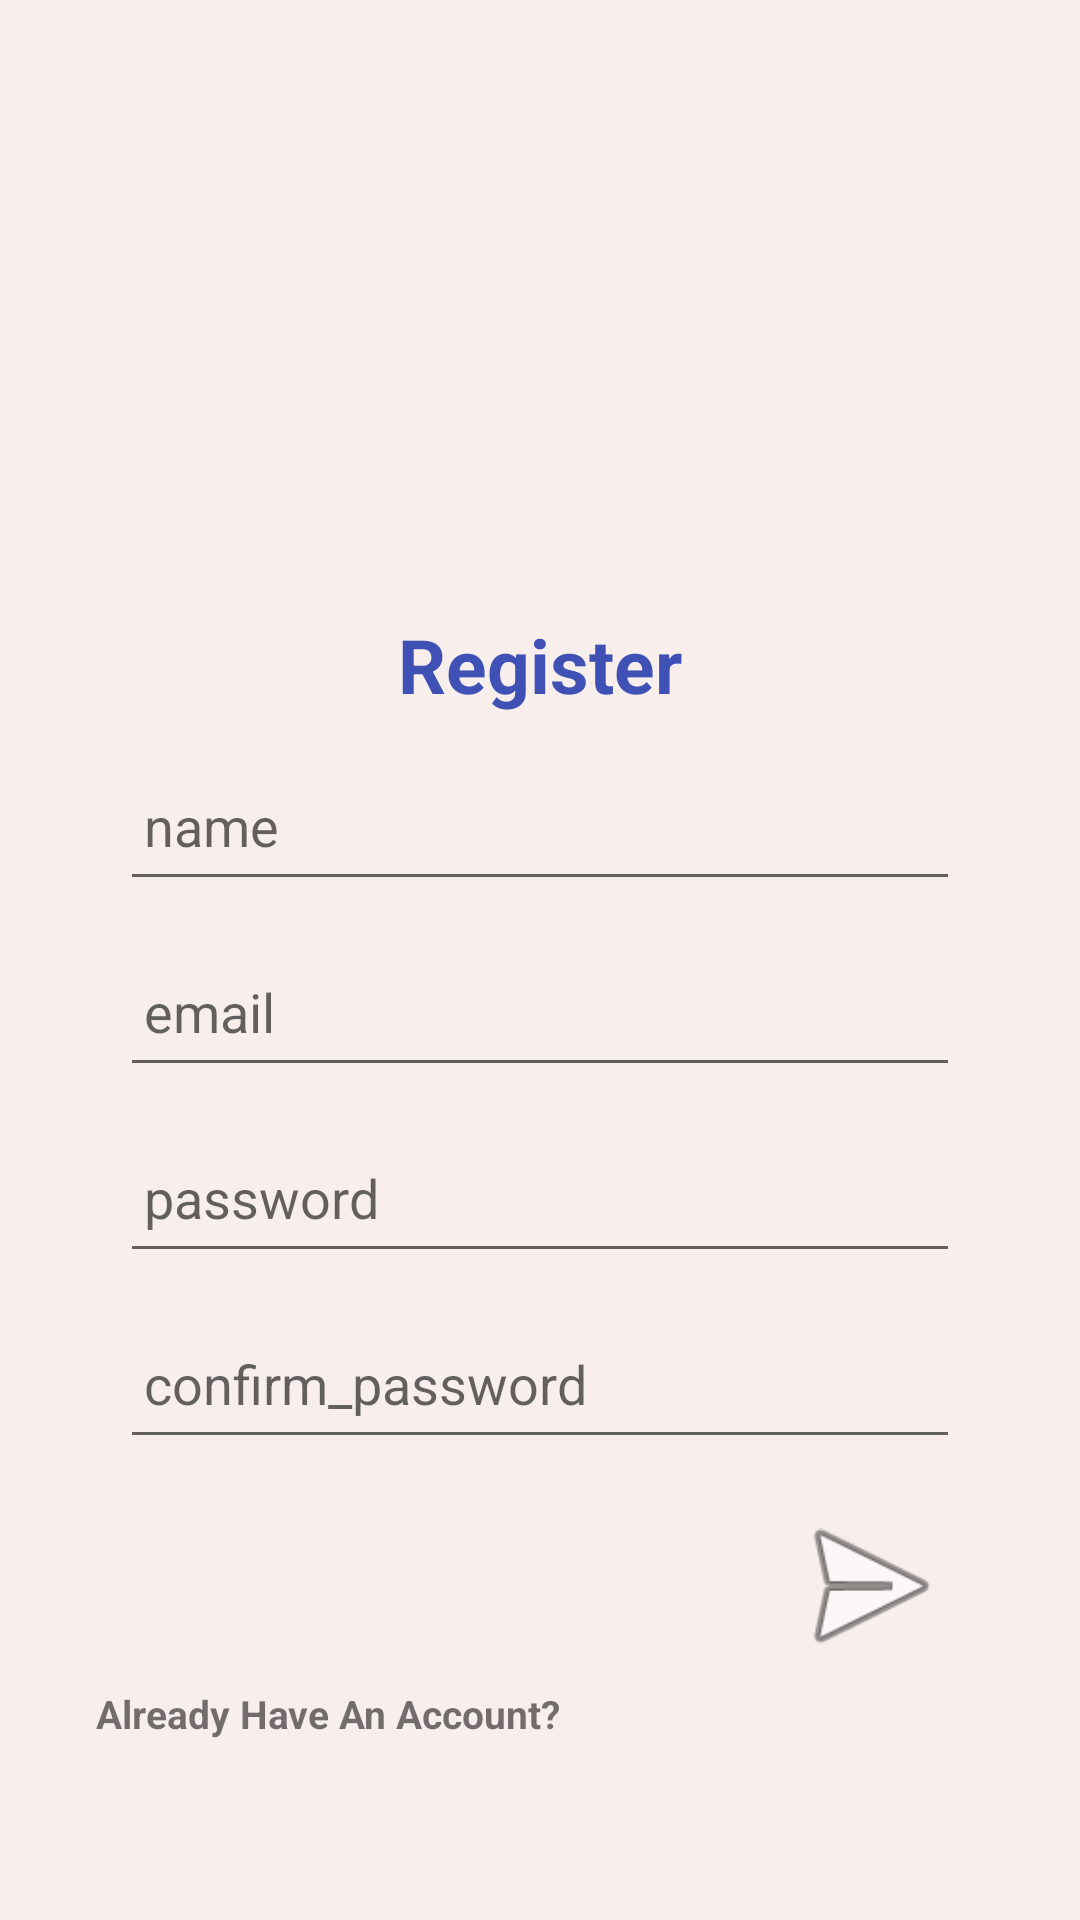

Screen size 1080x1920. Icon name, then its center in pixels as (x,y):
send: (871,1586)
